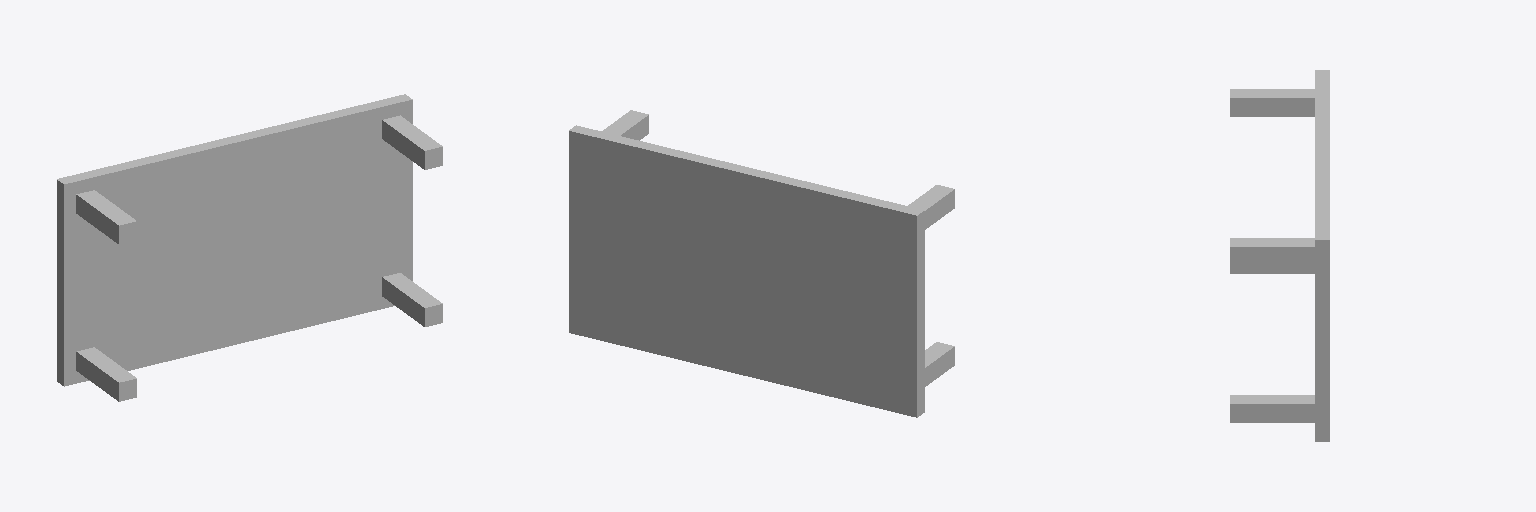
Rendered from random_table24.obj.
The picture shows the model from 3 angles: view 1: azimuth 30°, elevation 25°; view 2: azimuth 150°, elevation 25°; view 3: azimuth 270°, elevation 25°; orthographic projection.
Visible parts, largest first — view 1: Table_Cube.315, TableLeg1_Cube.317, TableLeg2_Cube.318, TableLeg3_Cube.319, TableLeg0_Cube.316; view 2: Table_Cube.315, TableLeg1_Cube.317, TableLeg3_Cube.319, TableLeg0_Cube.316; view 3: Table_Cube.315, TableLeg0_Cube.316, TableLeg1_Cube.317, TableLeg2_Cube.318, TableLeg3_Cube.319.
Boxes of the visible parts, x1,y1,x2,y2 form: Table_Cube.315: [57, 94, 412, 386]; TableLeg1_Cube.317: [76, 190, 136, 244]; TableLeg2_Cube.318: [382, 273, 442, 326]; TableLeg3_Cube.319: [76, 347, 136, 401]; TableLeg0_Cube.316: [382, 115, 442, 169]; Table_Cube.315: [569, 125, 924, 417]; TableLeg1_Cube.317: [908, 185, 954, 229]; TableLeg3_Cube.319: [925, 342, 954, 386]; TableLeg0_Cube.316: [602, 110, 648, 140]; Table_Cube.315: [1315, 70, 1329, 441]; TableLeg0_Cube.316: [1230, 238, 1314, 265]; TableLeg1_Cube.317: [1230, 89, 1314, 116]; TableLeg2_Cube.318: [1230, 395, 1314, 422]; TableLeg3_Cube.319: [1230, 266, 1314, 273].
Size of the model in its own units: 11.42 by 6.33 by 2.84.